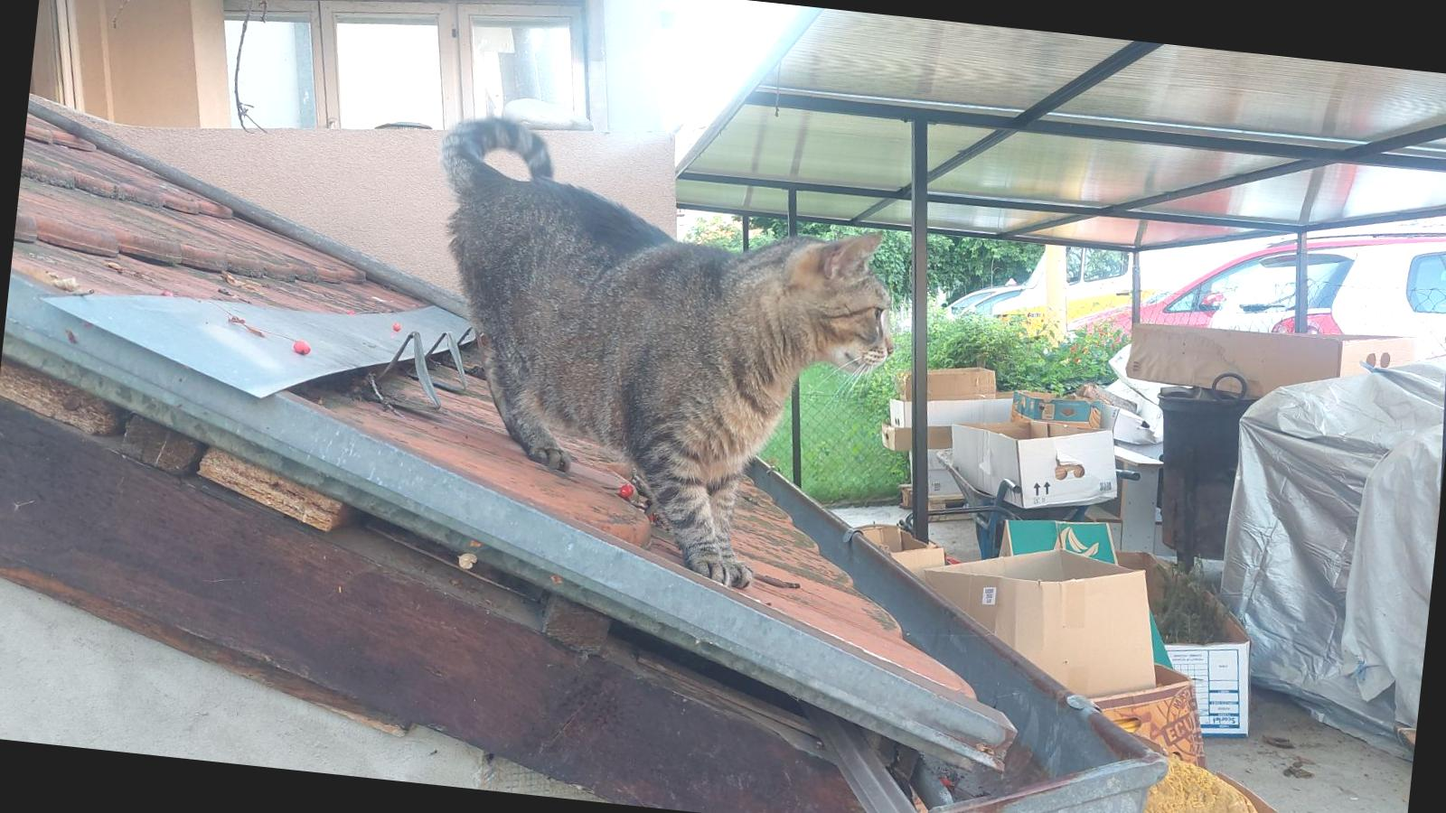macka: (402, 107, 916, 606)
